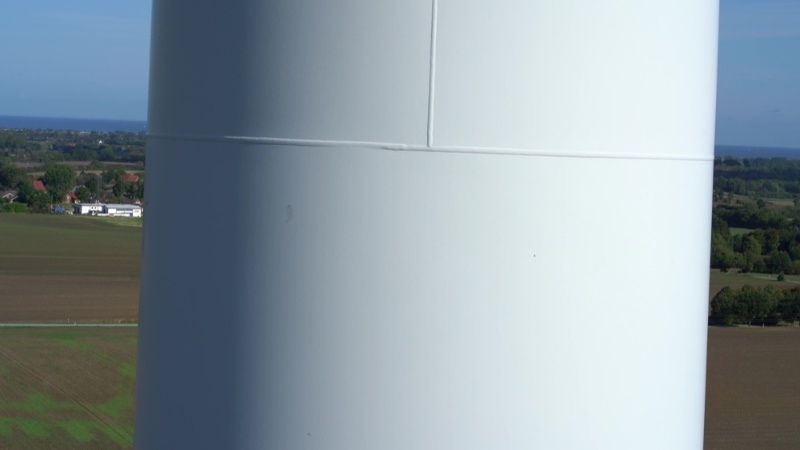weldseam: (142, 124, 718, 168), (421, 1, 444, 160)
